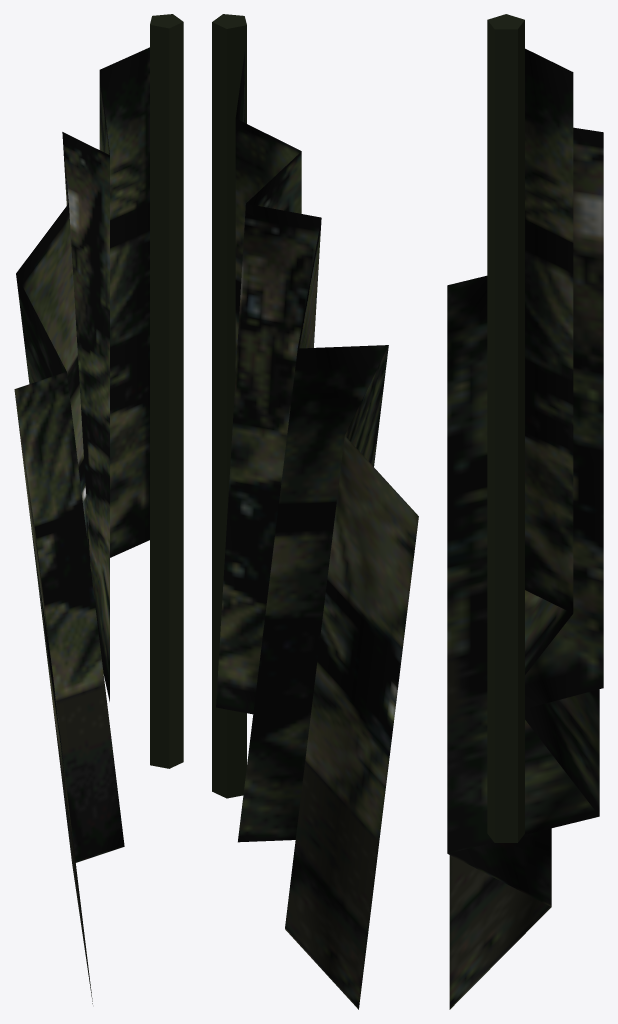
File: SLIME3.ICO.obj
The picture shows the model from 3 angles, left to right: view 1: azimuth 30°, elevation 25°; view 2: azimuth 150°, elevation 25°; view 3: azimuth 270°, elevation 25°; orthographic projection. The views are drawn at different scales.
Size of the model in its own units: 0.5344 by 2.88 by 0.3911.
